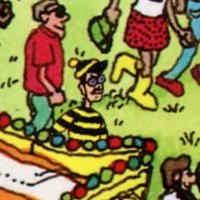odlaw: (80, 58, 105, 101)
